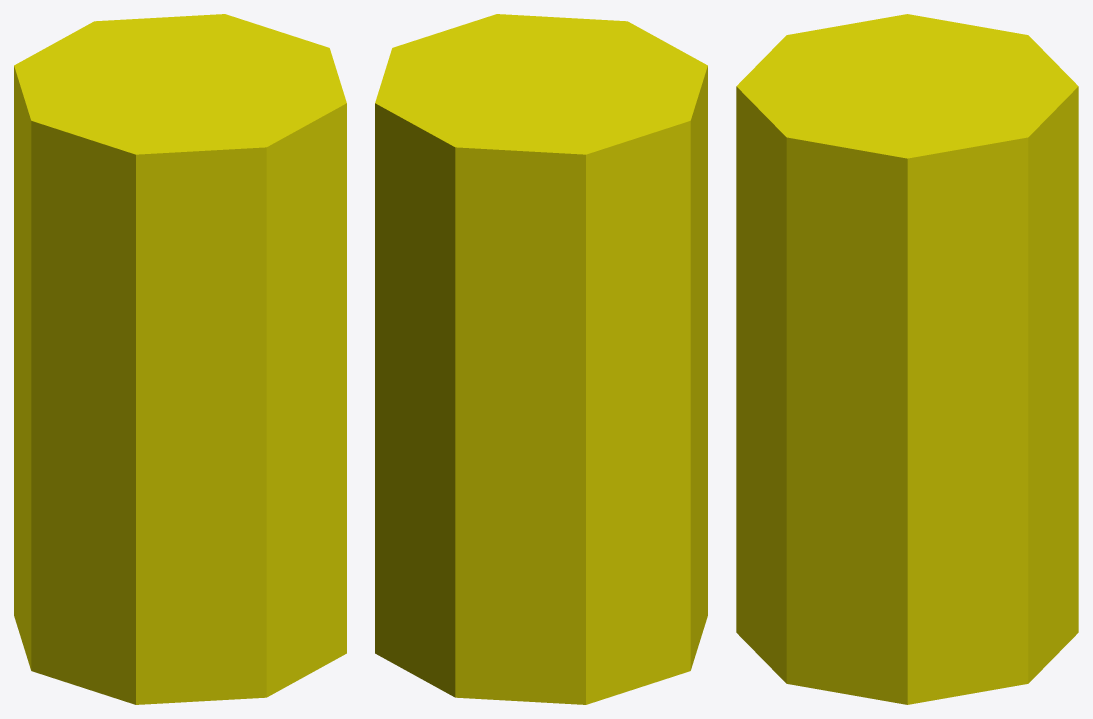
Rendered from computer_energy.fbx.
3 views of the same model, side by side, from view 1: azimuth 30°, elevation 25°; view 2: azimuth 150°, elevation 25°; view 3: azimuth 270°, elevation 25° (orthographic).
Visible parts, largest first — view 1: ENERGY; view 2: ENERGY; view 3: ENERGY.
Boxes of the visible parts, <box> form: ENERGY: <box>14,14,346,704</box>; ENERGY: <box>375,14,707,704</box>; ENERGY: <box>736,14,1078,704</box>.
Bounding box in the file's own units: 24.86 × 43.8 × 24.86.
